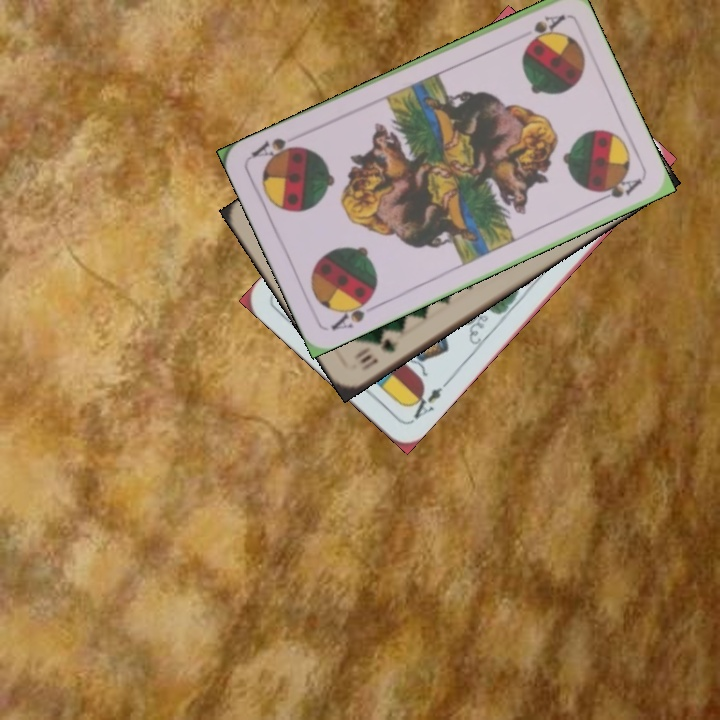EA: (404, 376, 452, 424)
G10: (355, 334, 402, 374)
SA: (326, 292, 381, 333), (524, 10, 568, 44)
